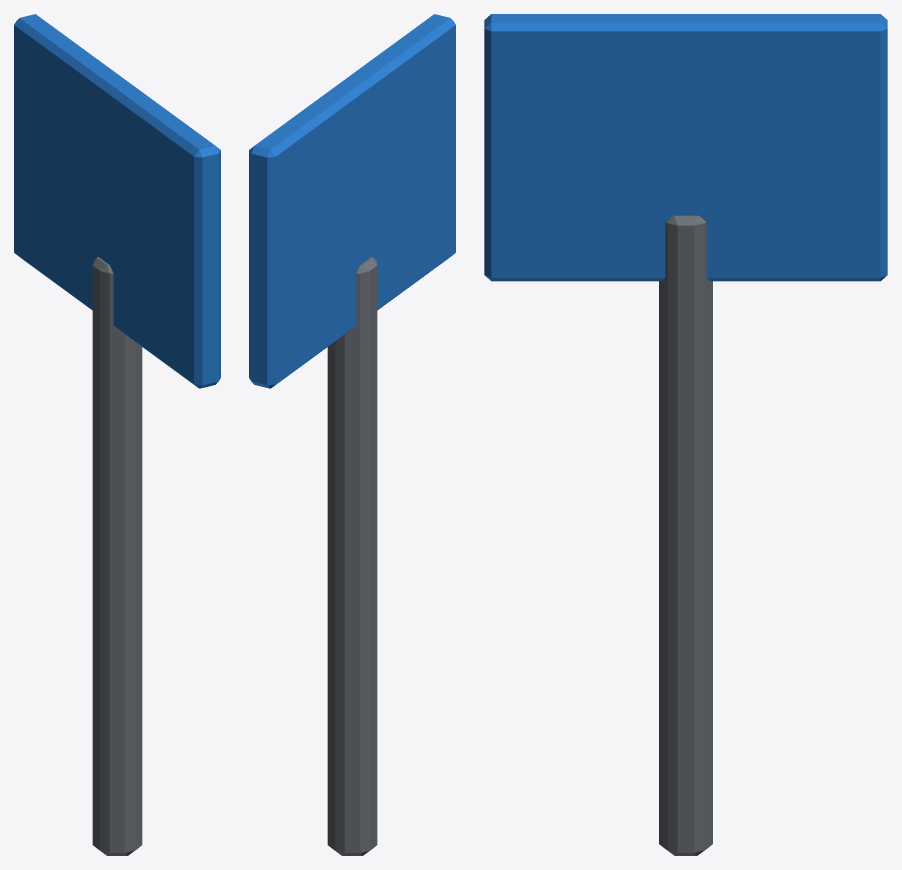
File: street_sign.glb
3 renders of one model, left to right at view 1: azimuth 30°, elevation 25°; view 2: azimuth 150°, elevation 25°; view 3: azimuth 270°, elevation 25°, orthographic. The views are drawn at different scales.
Visible parts, largest first — view 1: street_sign; view 2: street_sign; view 3: street_sign.
Boxes of the visible parts, box(x1,y1,x2,y2) form: street_sign: box(14, 14, 220, 855); street_sign: box(249, 14, 455, 855); street_sign: box(484, 14, 887, 855).
Bounding box in the file's own units: 0.0312 × 0.545 × 0.24.
